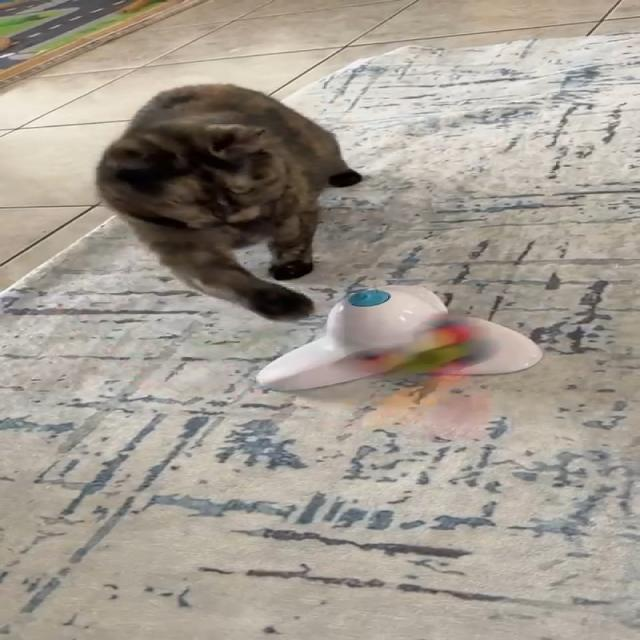authorized: (93, 81, 363, 322)
